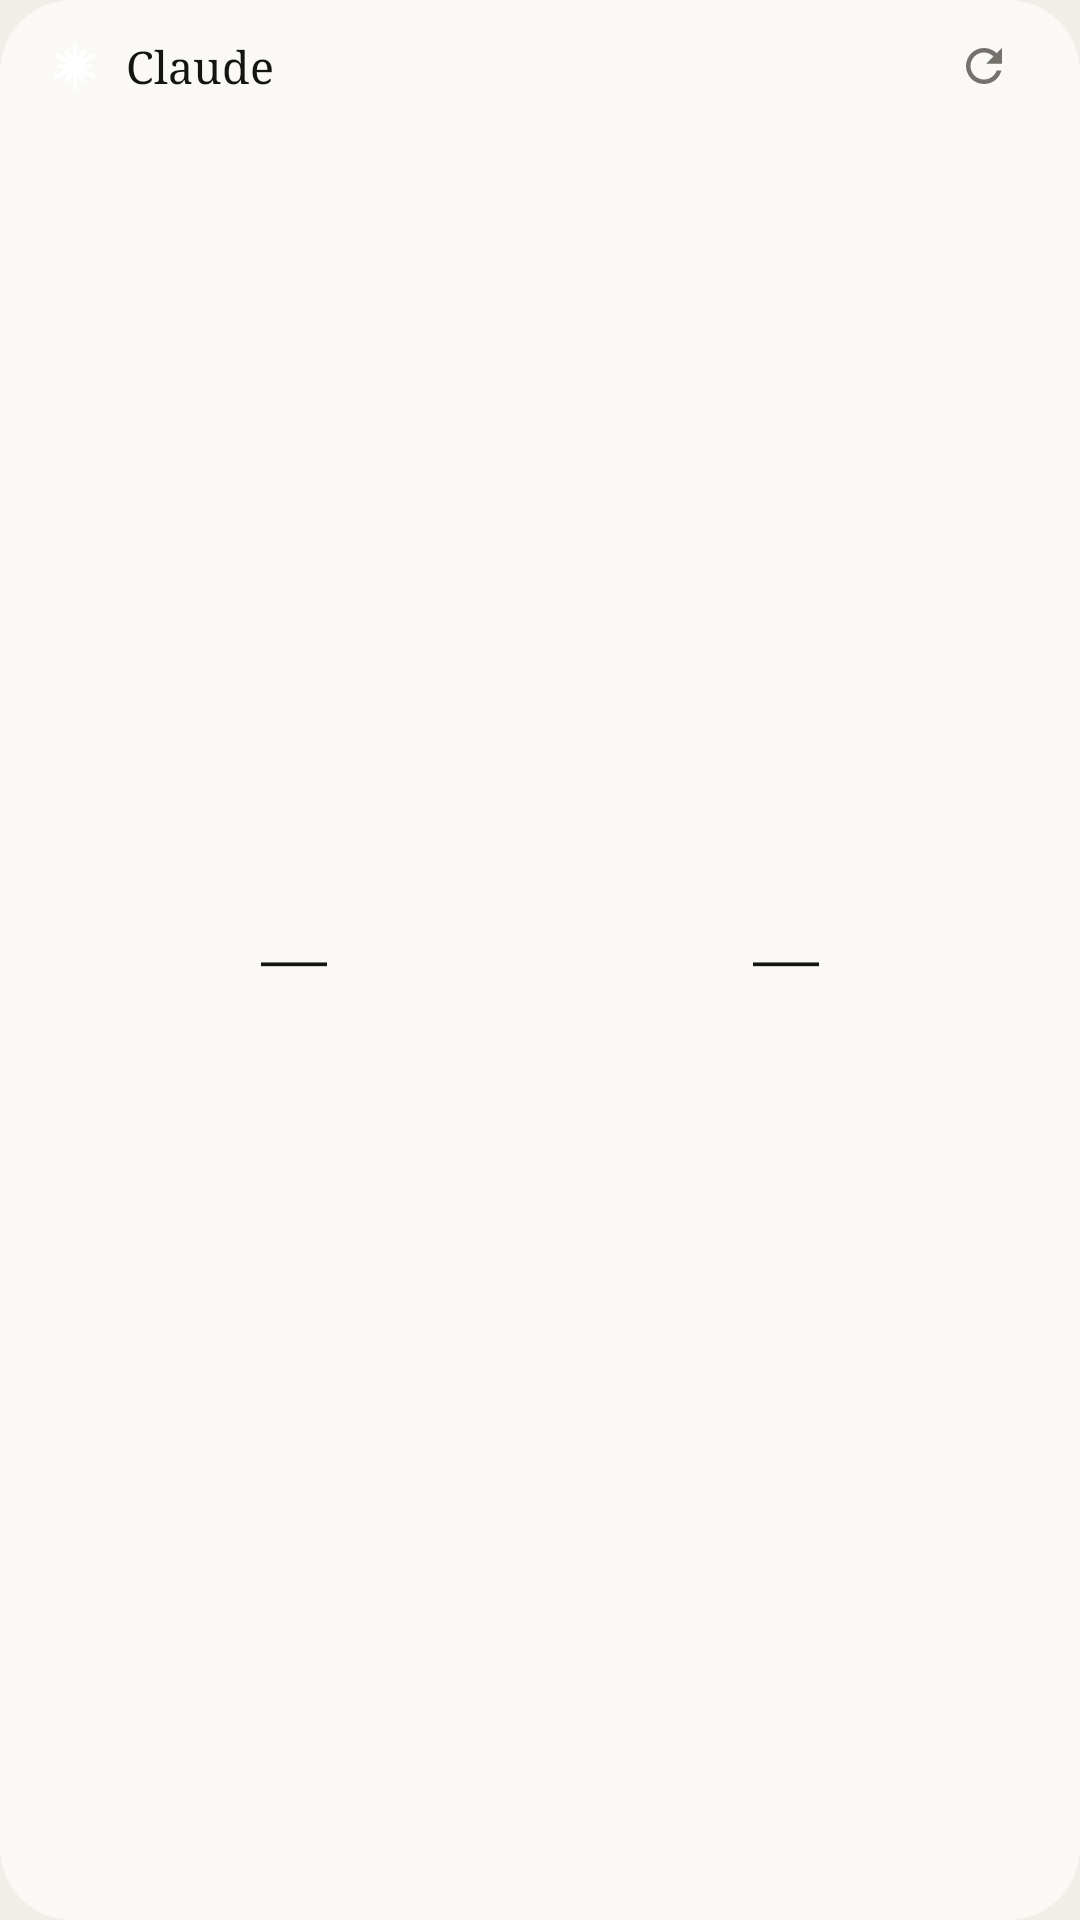

Screen size 1080w x 1920h. Icon name, then its box in pixels as (x1, y1, x2, y2):
Refresh: (966, 48, 1002, 84)
